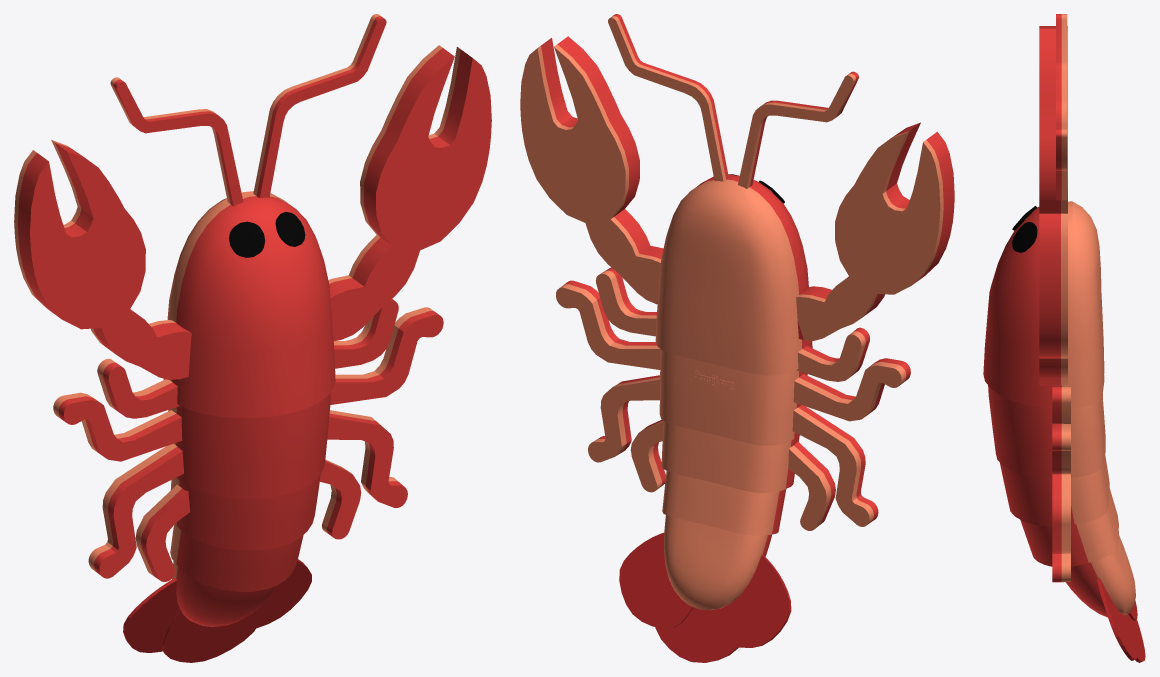
Rendered from lobster.fbx.
3 views of the same model, side by side, from view 1: azimuth 30°, elevation 25°; view 2: azimuth 150°, elevation 25°; view 3: azimuth 270°, elevation 25° (orthographic). The views are drawn at different scales.
Parts seen in each view (by area): view 1: Cube.184; view 2: Cube.184; view 3: Cube.184.
Boxes of the visible parts, x1=… form: Cube.184: x1=14, y1=14, x2=491, y2=662; Cube.184: x1=520, y1=14, x2=954, y2=662; Cube.184: x1=983, y1=14, x2=1145, y2=662.
Bounding box in the file's own units: 170 × 227 × 57.06.
1 material, 1 textured.
